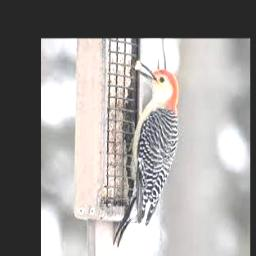Woodpecker: (113, 61, 178, 247)
